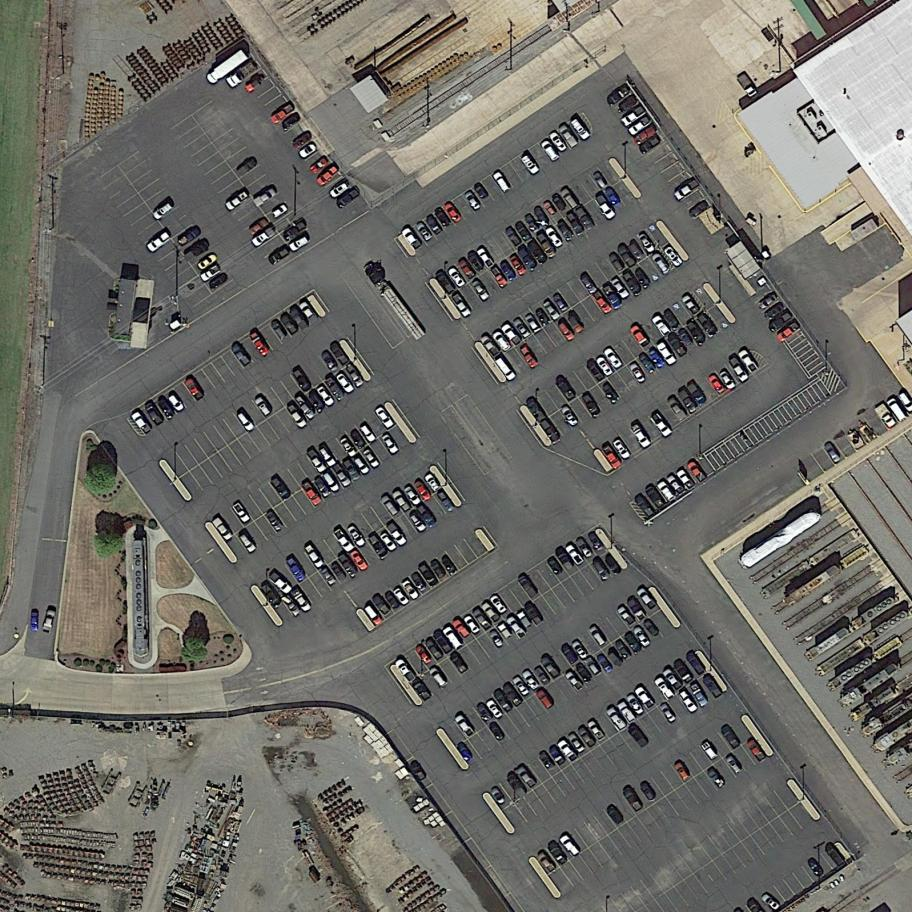large-vehicle: (362, 262, 426, 342), (206, 49, 248, 85), (225, 59, 259, 89)
small-vehicle: (733, 69, 763, 101), (672, 177, 701, 202), (501, 681, 526, 709), (182, 238, 211, 262), (335, 186, 362, 211), (672, 658, 696, 686), (621, 785, 645, 813), (331, 527, 355, 554), (441, 624, 465, 651), (300, 480, 324, 507), (593, 194, 617, 221), (823, 841, 847, 868), (434, 269, 458, 296), (874, 403, 898, 430), (505, 771, 528, 799), (393, 658, 417, 684), (628, 323, 652, 349), (303, 543, 326, 570), (260, 582, 283, 609), (288, 305, 311, 332), (130, 409, 153, 436), (494, 355, 517, 382), (627, 114, 654, 137), (539, 418, 562, 445), (653, 675, 676, 702), (268, 571, 293, 595), (516, 573, 539, 599), (505, 614, 528, 640), (471, 607, 494, 633), (453, 713, 476, 739), (492, 688, 515, 714), (183, 376, 206, 402), (282, 220, 308, 243), (224, 189, 250, 212), (305, 448, 328, 474), (291, 367, 314, 393), (295, 395, 318, 421), (601, 284, 624, 310), (400, 225, 423, 251), (605, 706, 628, 732), (886, 396, 909, 422), (666, 332, 689, 358), (696, 313, 719, 339), (767, 311, 793, 334), (644, 484, 667, 510), (633, 493, 656, 519), (650, 412, 673, 438), (686, 381, 709, 407), (737, 348, 760, 374), (775, 321, 801, 344), (290, 586, 312, 613), (536, 232, 558, 259), (620, 106, 647, 128), (539, 655, 562, 680), (385, 522, 408, 547), (315, 165, 340, 188), (235, 156, 260, 179), (269, 476, 292, 501), (211, 516, 234, 541), (627, 725, 650, 750), (523, 601, 545, 627), (367, 534, 389, 560), (337, 553, 359, 579), (418, 563, 440, 589), (432, 630, 454, 656), (176, 225, 202, 247), (270, 103, 296, 125), (143, 401, 165, 427), (328, 341, 350, 367), (286, 403, 308, 429), (702, 674, 724, 700), (501, 322, 523, 348), (622, 271, 644, 297), (632, 123, 658, 145), (605, 84, 631, 106), (526, 239, 548, 265), (547, 841, 569, 867), (746, 738, 768, 764), (515, 764, 537, 790), (662, 667, 684, 693), (634, 685, 656, 711), (557, 738, 579, 764), (686, 320, 708, 346), (600, 444, 622, 470), (630, 423, 652, 449), (677, 388, 699, 414), (728, 357, 750, 383), (591, 557, 613, 582), (626, 597, 648, 622), (146, 231, 171, 253), (230, 343, 252, 368), (306, 388, 328, 413), (373, 405, 395, 430), (574, 206, 596, 231), (479, 334, 501, 359), (558, 124, 580, 149), (517, 247, 539, 272), (559, 834, 581, 859), (686, 459, 708, 484), (555, 377, 577, 402), (656, 341, 678, 366), (666, 397, 688, 422), (526, 397, 547, 423), (371, 593, 393, 617), (348, 548, 370, 572), (281, 593, 303, 617), (324, 376, 346, 400), (636, 587, 658, 611), (650, 252, 672, 276), (591, 291, 613, 315), (678, 690, 700, 714), (650, 314, 672, 338), (602, 346, 624, 370), (286, 557, 307, 582), (411, 678, 432, 703), (299, 300, 320, 325), (279, 312, 300, 337), (155, 396, 176, 421), (251, 227, 276, 248), (252, 187, 277, 208), (331, 463, 352, 488), (344, 363, 365, 388), (380, 432, 401, 457), (540, 137, 561, 162), (513, 219, 534, 244), (451, 293, 472, 318), (720, 725, 741, 750), (624, 692, 645, 717), (616, 700, 637, 725), (581, 393, 602, 418), (706, 766, 728, 789), (685, 652, 706, 676), (428, 665, 449, 689), (249, 332, 270, 356), (267, 245, 291, 266), (416, 504, 437, 528), (391, 489, 412, 513), (617, 244, 638, 268), (637, 133, 661, 154), (492, 170, 513, 194), (570, 118, 591, 142), (536, 850, 557, 874), (576, 725, 597, 749), (665, 472, 686, 496), (689, 682, 709, 707), (616, 605, 637, 628), (317, 445, 338, 468), (264, 509, 285, 532), (663, 245, 684, 268), (610, 277, 631, 300), (548, 130, 569, 153), (447, 266, 468, 289), (585, 360, 606, 383), (656, 480, 677, 503), (555, 546, 575, 570), (574, 535, 594, 559), (424, 638, 444, 662), (335, 371, 355, 395), (565, 212, 585, 236), (519, 345, 539, 369), (363, 604, 384, 626), (688, 199, 710, 220), (565, 543, 585, 566), (482, 601, 502, 624), (346, 524, 366, 547), (595, 652, 615, 675), (451, 617, 471, 640), (623, 632, 643, 655), (632, 625, 652, 648), (449, 652, 469, 675), (196, 252, 219, 272), (269, 318, 289, 341), (279, 111, 302, 131), (291, 130, 314, 150), (231, 502, 251, 525), (322, 470, 342, 493), (413, 479, 433, 502), (403, 484, 423, 507), (560, 187, 580, 210), (555, 219, 575, 242), (532, 205, 552, 228), (492, 330, 512, 353), (544, 226, 564, 249), (424, 214, 444, 237), (489, 266, 509, 289), (471, 279, 491, 302), (457, 258, 477, 281), (560, 405, 580, 428), (586, 719, 606, 742), (567, 731, 587, 754), (676, 468, 696, 491), (681, 293, 701, 316), (612, 438, 632, 461), (476, 246, 495, 270), (565, 670, 585, 692), (588, 625, 608, 647), (521, 669, 541, 691), (512, 675, 532, 697), (535, 688, 555, 710), (487, 720, 507, 742), (408, 511, 428, 533), (152, 202, 174, 222), (244, 74, 266, 94), (248, 216, 270, 236), (238, 532, 258, 554), (351, 453, 371, 475), (316, 385, 336, 407), (512, 317, 532, 339), (578, 273, 598, 295), (521, 154, 541, 176), (443, 201, 463, 223), (433, 207, 453, 229), (508, 255, 528, 277), (466, 251, 486, 273), (605, 804, 625, 826), (401, 578, 420, 601), (288, 233, 311, 252), (380, 494, 399, 517), (321, 349, 340, 372), (436, 490, 455, 513), (342, 458, 361, 481), (633, 267, 652, 290), (504, 225, 523, 248), (415, 220, 434, 243), (823, 441, 842, 464), (475, 701, 495, 722), (378, 531, 398, 552), (604, 554, 623, 576), (560, 642, 579, 664), (414, 643, 433, 665), (409, 760, 428, 782), (455, 741, 474, 763), (199, 264, 221, 283), (207, 272, 229, 291), (313, 476, 332, 498), (254, 395, 273, 417), (236, 411, 255, 433), (348, 427, 367, 449), (607, 251, 626, 273), (543, 300, 562, 322), (537, 750, 556, 772), (658, 702, 677, 724), (548, 744, 567, 766), (662, 309, 681, 331), (647, 347, 666, 369), (638, 352, 657, 374), (596, 355, 615, 377), (757, 292, 779, 311), (708, 372, 727, 394), (628, 361, 646, 384), (310, 155, 330, 175), (761, 892, 781, 912), (489, 593, 508, 614), (440, 555, 459, 576), (463, 614, 482, 635), (614, 640, 633, 661), (485, 699, 504, 720), (167, 393, 186, 414), (362, 448, 381, 469), (627, 240, 646, 261), (604, 186, 623, 207), (557, 321, 576, 342), (617, 94, 638, 113), (601, 383, 620, 404), (764, 302, 785, 321), (718, 370, 737, 391), (339, 436, 357, 458), (464, 190, 482, 212), (41, 609, 57, 633), (533, 307, 552, 327), (638, 781, 657, 801), (806, 857, 825, 877), (330, 562, 348, 583), (575, 662, 593, 683), (571, 640, 589, 661), (584, 657, 602, 678), (329, 181, 350, 199), (359, 423, 377, 444), (638, 233, 656, 254), (524, 312, 542, 333), (499, 261, 517, 282), (546, 556, 564, 576), (393, 587, 411, 607), (515, 609, 533, 629), (320, 566, 338, 586), (429, 559, 447, 579), (533, 666, 551, 686), (298, 142, 318, 160), (673, 761, 691, 781), (725, 754, 743, 774), (489, 786, 507, 806), (383, 590, 401, 609), (410, 573, 428, 592), (642, 618, 660, 637), (550, 193, 568, 212), (588, 531, 605, 551), (424, 473, 441, 493), (552, 293, 569, 313), (568, 314, 585, 334), (524, 214, 541, 234), (701, 741, 718, 761), (677, 327, 694, 347), (488, 629, 505, 648), (270, 203, 289, 220), (592, 170, 609, 189), (607, 651, 624, 669), (497, 621, 513, 640), (473, 182, 489, 200), (542, 200, 558, 217), (30, 612, 39, 631)
